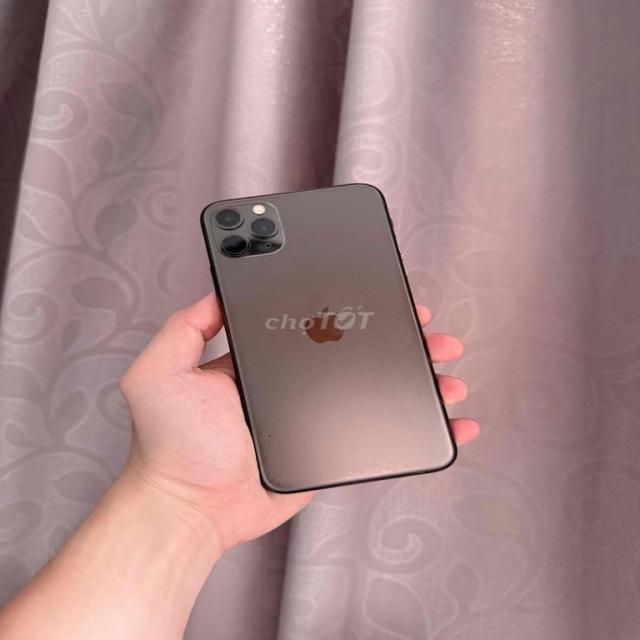gen_11: (195, 183, 461, 495)
